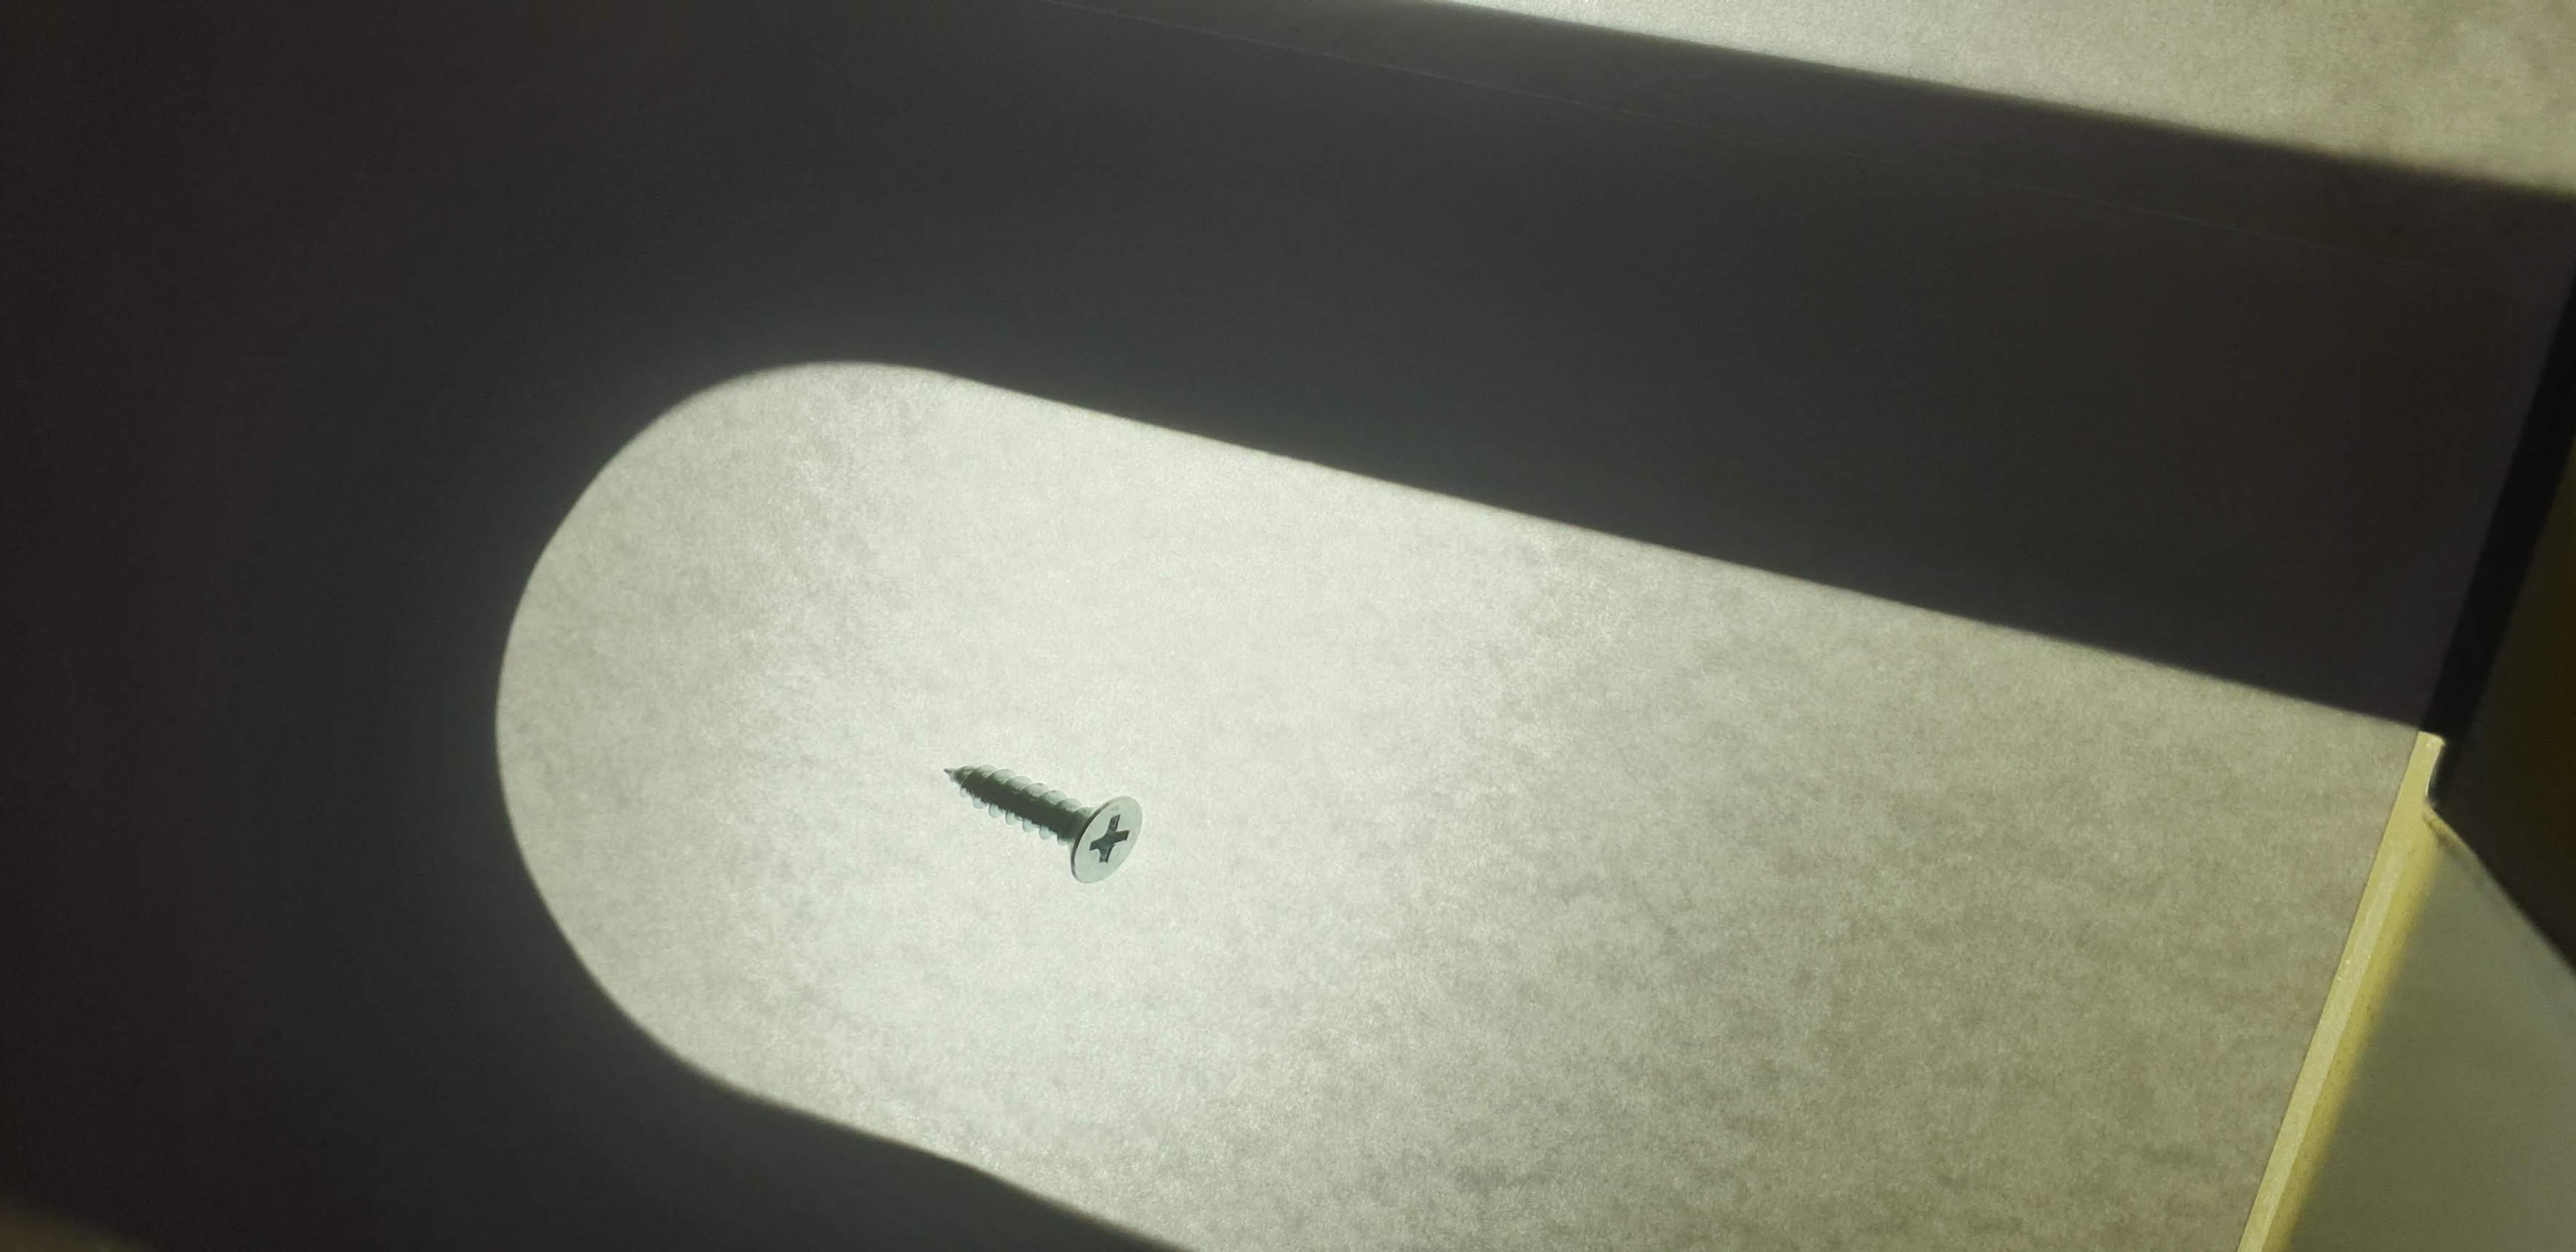S003: (910, 721, 1189, 917)
